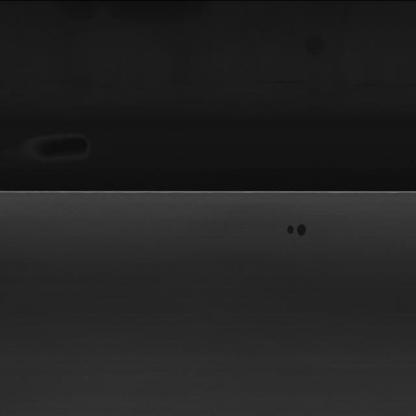oil_spot: (281, 216, 318, 244)
